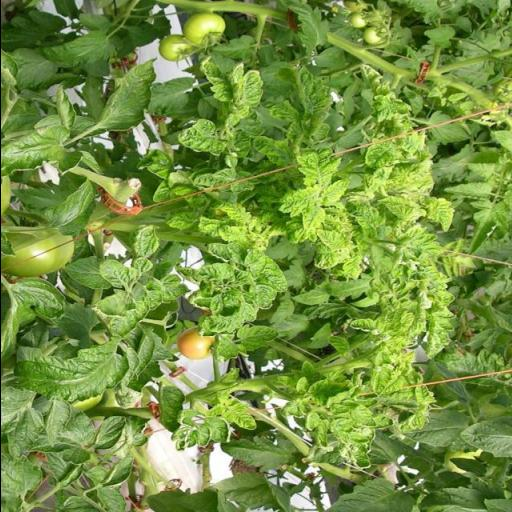Yellow Leaf Curl Virus: (423, 291, 457, 360), (172, 259, 236, 293), (105, 294, 153, 338), (228, 62, 262, 124), (172, 118, 224, 156), (292, 147, 338, 188), (196, 308, 256, 338), (229, 322, 285, 354), (296, 66, 333, 112), (363, 136, 409, 170), (198, 54, 232, 100), (400, 224, 442, 261), (304, 377, 350, 407), (91, 290, 137, 320), (250, 136, 294, 166), (224, 402, 262, 436), (136, 150, 177, 180), (376, 193, 418, 222), (328, 417, 370, 446), (192, 167, 237, 193), (210, 196, 252, 223), (276, 188, 318, 215), (372, 94, 412, 122), (207, 291, 245, 320), (382, 267, 410, 306), (425, 198, 457, 232), (98, 260, 134, 289), (130, 226, 162, 258), (348, 312, 390, 336), (310, 226, 352, 250), (258, 258, 286, 294), (394, 409, 434, 433), (210, 335, 240, 364), (369, 362, 393, 398), (310, 243, 342, 270), (247, 285, 279, 311), (202, 416, 230, 445), (243, 246, 267, 278), (322, 178, 351, 204), (348, 404, 376, 430), (412, 379, 440, 405), (163, 210, 196, 232), (323, 332, 351, 357), (216, 224, 252, 243), (313, 418, 333, 452), (339, 253, 363, 281), (299, 208, 328, 230), (276, 400, 305, 422), (308, 120, 334, 144), (144, 288, 164, 313), (420, 263, 442, 283), (302, 411, 321, 431), (299, 360, 319, 377)
